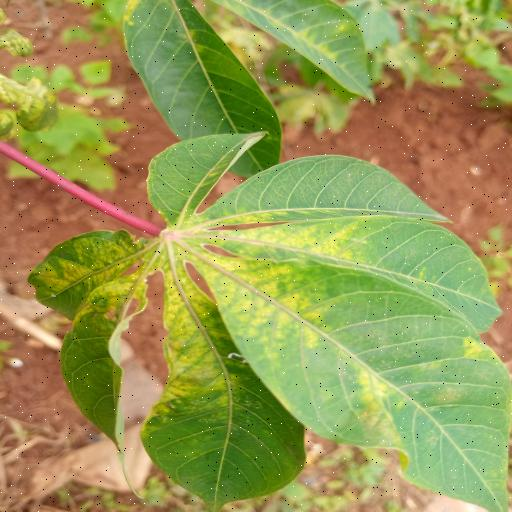Cassava_Mosaic: (23, 131, 512, 512)
